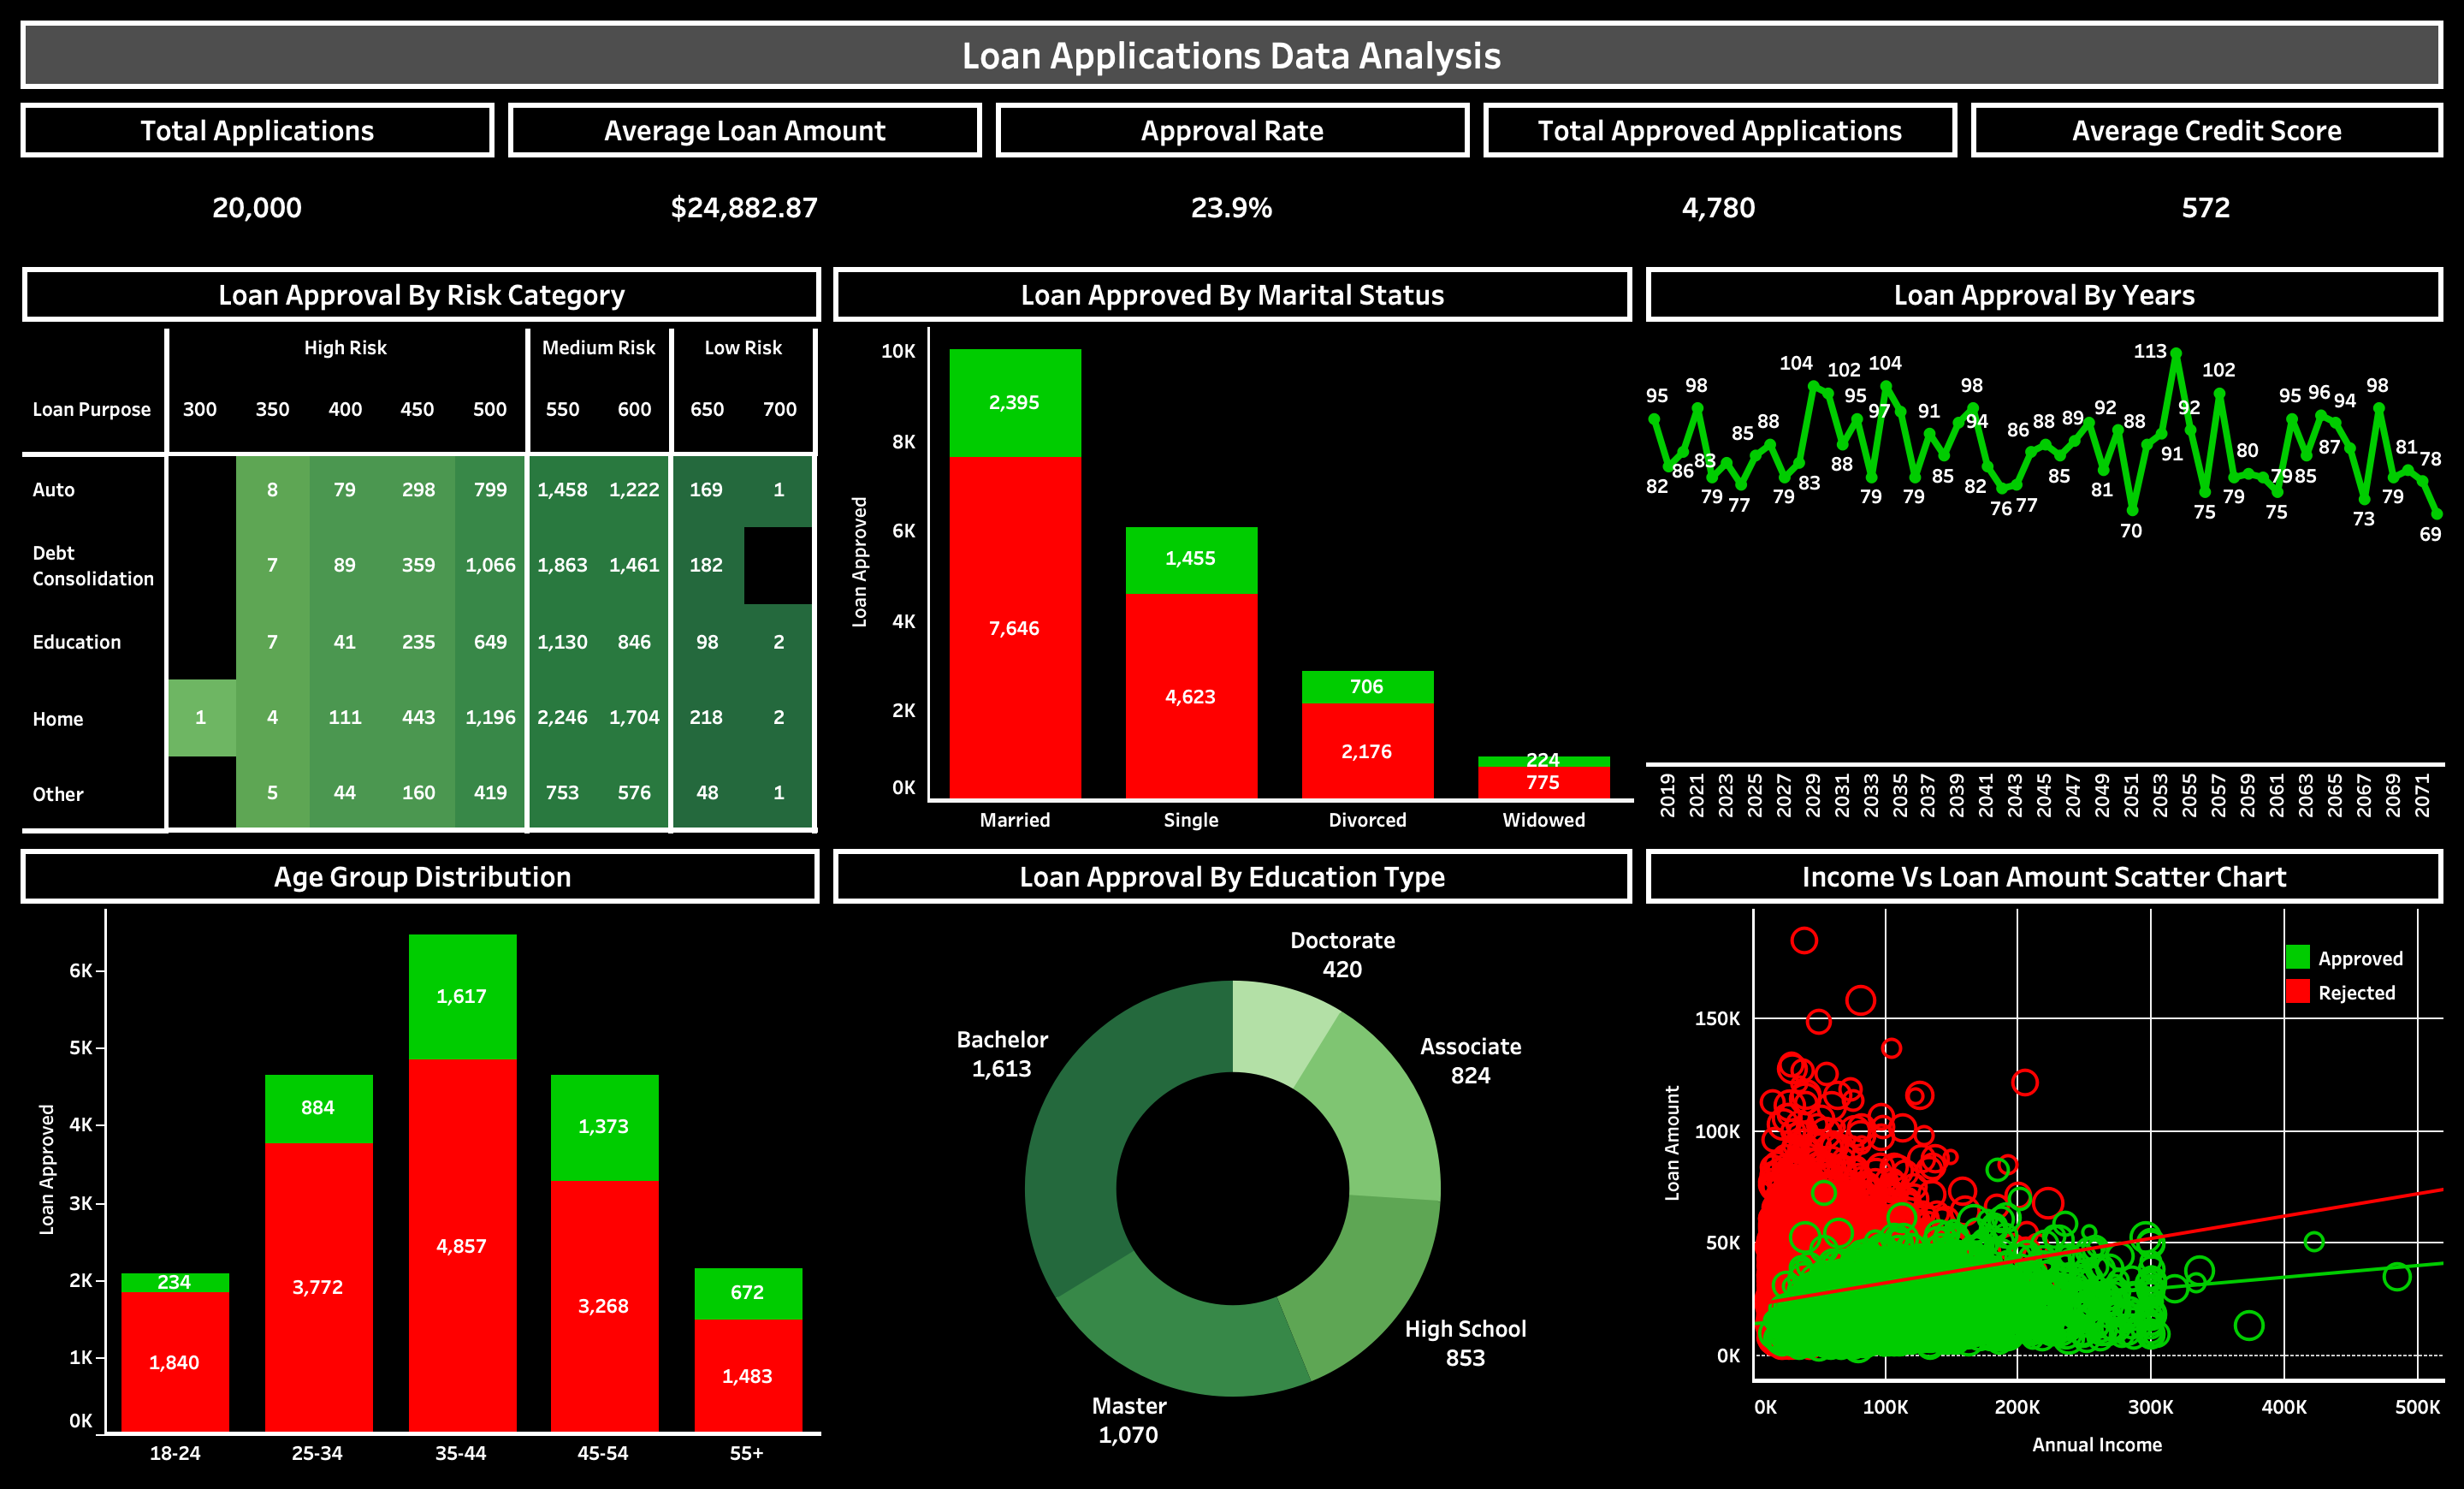

This screenshot's page, from the dashboard's own definition file:
{"tool":"tableau","page":{"name":"Dashboard 1","canvas":[1000,1000],"units":"permille","ordinal":0},"visuals":[{"type":"title","box":[7,11.9,986.1,71.2]},{"type":"worksheet","title":"Total Applications","mark":"Automatic","box":[7,83.1,197.2,108.3]},{"type":"worksheet","title":"Avg Loan Amount","mark":"Automatic","box":[204.2,83.1,197.2,108.3]},{"type":"worksheet","title":"Approval Rate","mark":"Automatic","box":[401.4,83.1,197.2,108.3]},{"type":"worksheet","title":"Total Approved","mark":"Automatic","box":[598.6,83.1,197.2,108.3]},{"type":"worksheet","title":"Avg Credit Score","mark":"Automatic","box":[795.8,83.1,197.2,108.3]},{"type":"worksheet","title":"Loan Purpose Vs Risk","mark":"Square","rows":["LoanPurpose"],"cols":["Calculation_0048316065918977","Credit Score (bin)"],"box":[7,191.4,329.3,381.3]},{"type":"worksheet","title":"Marital ","mark":"Automatic","rows":["LoanApproved"],"cols":["MaritalStatus"],"box":[336.2,191.4,328.4,381.3]},{"type":"worksheet","title":"Approval by Month","mark":"Line","rows":["LoanApproved"],"cols":["ApplicationDate"],"box":[664.6,191.4,328.4,381.3]},{"type":"worksheet","title":"Approval by Age group ","mark":"Automatic","rows":["LoanApproved"],"cols":["Calculation_0070031687516165"],"box":[7,572.7,329.3,415.4]},{"type":"worksheet","title":"Education","mark":"Pie","rows":["Calculation_2654436610682887","Calculation_2654436610715657"],"box":[336.2,572.7,328.4,415.4]},{"type":"worksheet","title":"Income Vs Loan","mark":"Automatic","rows":["LoanAmount"],"cols":["AnnualIncome"],"box":[664.6,572.7,328.4,415.4]},{"type":"legend","title":"Income Vs Loan","param":"[federated.0z9yiy30eukaea1cjkz7u0zpm12a].[none:Calculation_6405760945438721:nk]","box":[925.7,630.6,54.5,60.8]}]}

Visuals, with their boxes on the dashboard's canvas, which has no fixed pixel size, in thousandths of its width and height (x1, y1, x2, y2). These are canvas units, not pixel positions in the 2464x1489 screenshot, which may show the page scaled, cropped or inside an application window:
title: box(7, 12, 993, 83)
"Total Applications" worksheet: box(7, 83, 204, 191)
"Avg Loan Amount" worksheet: box(204, 83, 401, 191)
"Approval Rate" worksheet: box(401, 83, 599, 191)
"Total Approved" worksheet: box(599, 83, 796, 191)
"Avg Credit Score" worksheet: box(796, 83, 993, 191)
"Loan Purpose Vs Risk" worksheet (Square marks): box(7, 191, 336, 573)
"Marital " worksheet: box(336, 191, 665, 573)
"Approval by Month" worksheet (Line marks): box(665, 191, 993, 573)
"Approval by Age group " worksheet: box(7, 573, 336, 988)
"Education" worksheet (Pie marks): box(336, 573, 665, 988)
"Income Vs Loan" worksheet: box(665, 573, 993, 988)
"Income Vs Loan" legend: box(926, 631, 980, 691)
